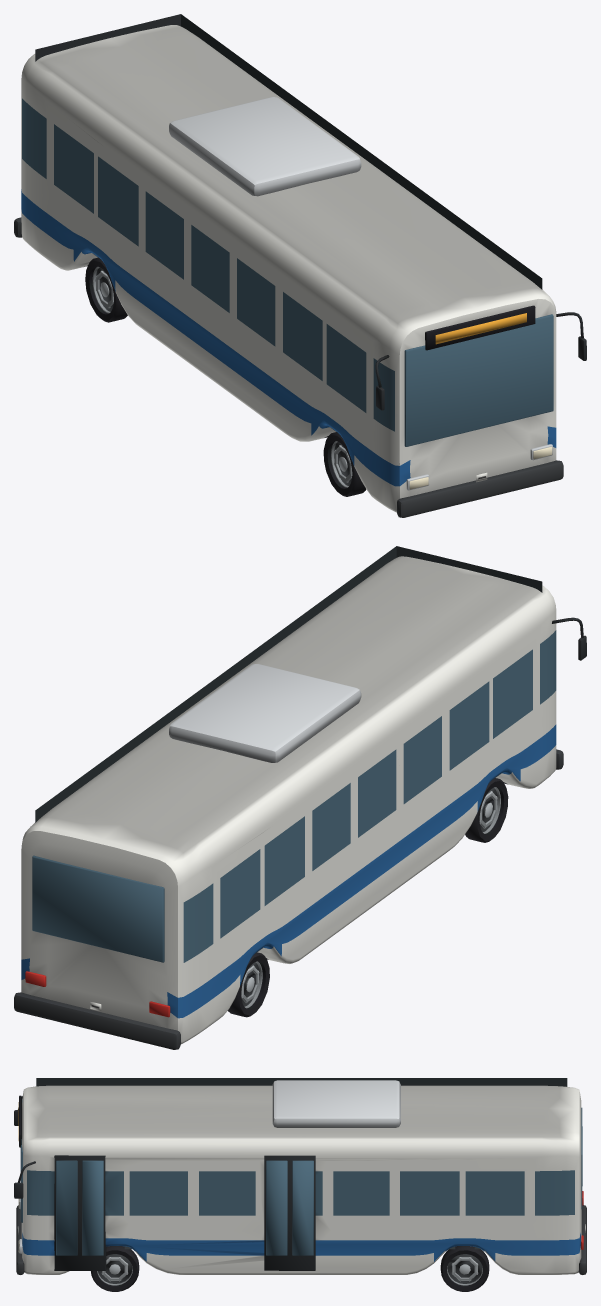
File: veh-busAU.glb
3 renders of one model, top to bottom at view 1: azimuth 30°, elevation 25°; view 2: azimuth 150°, elevation 25°; view 3: azimuth 270°, elevation 25°, orthographic. The views are drawn at different scales.
Parts seen in each view (by area): view 1: body, wheel1, wheel3; view 2: body, wheel1, wheel3; view 3: body, wheel2, wheel0.
Part boxes in pixels (bbox=[...]): body: bbox=[14, 14, 586, 517]; wheel1: bbox=[323, 432, 366, 496]; wheel3: bbox=[85, 257, 127, 322]; body: bbox=[14, 546, 586, 1049]; wheel1: bbox=[465, 778, 508, 842]; wheel3: bbox=[228, 952, 269, 1017]; body: bbox=[14, 1078, 586, 1274]; wheel2: bbox=[440, 1246, 489, 1291]; wheel0: bbox=[91, 1246, 139, 1291].
Size of the model in its own units: 3.01 by 3.15 by 9.82.
